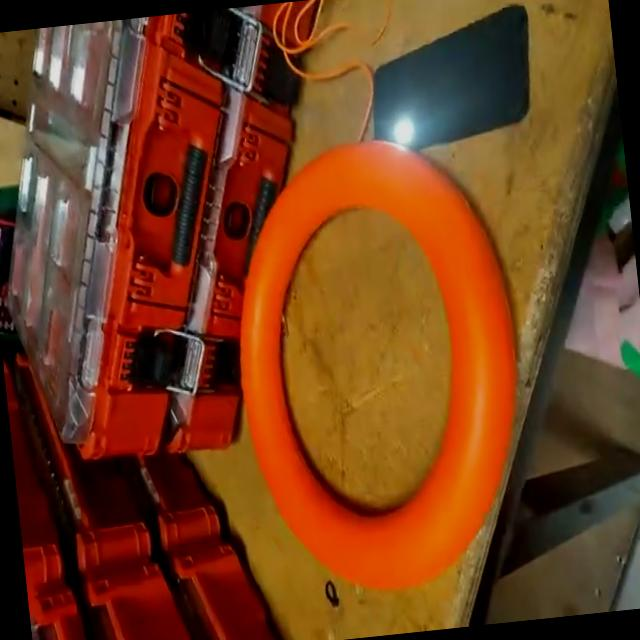note: (214, 123, 546, 606)
